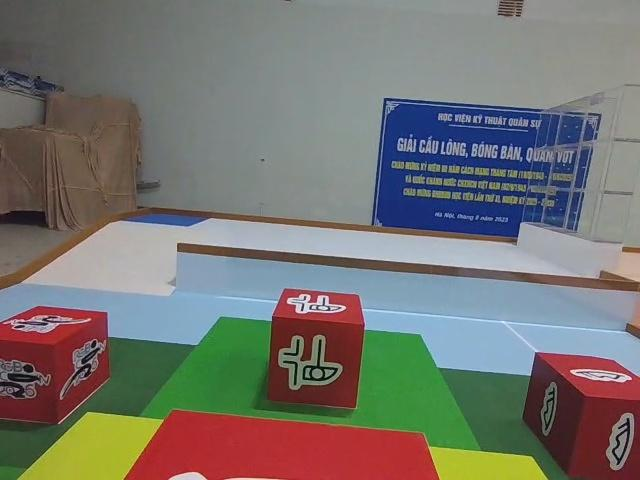R1: (0, 302, 112, 425)
R2 Real: (520, 349, 640, 480), (266, 285, 366, 411)
